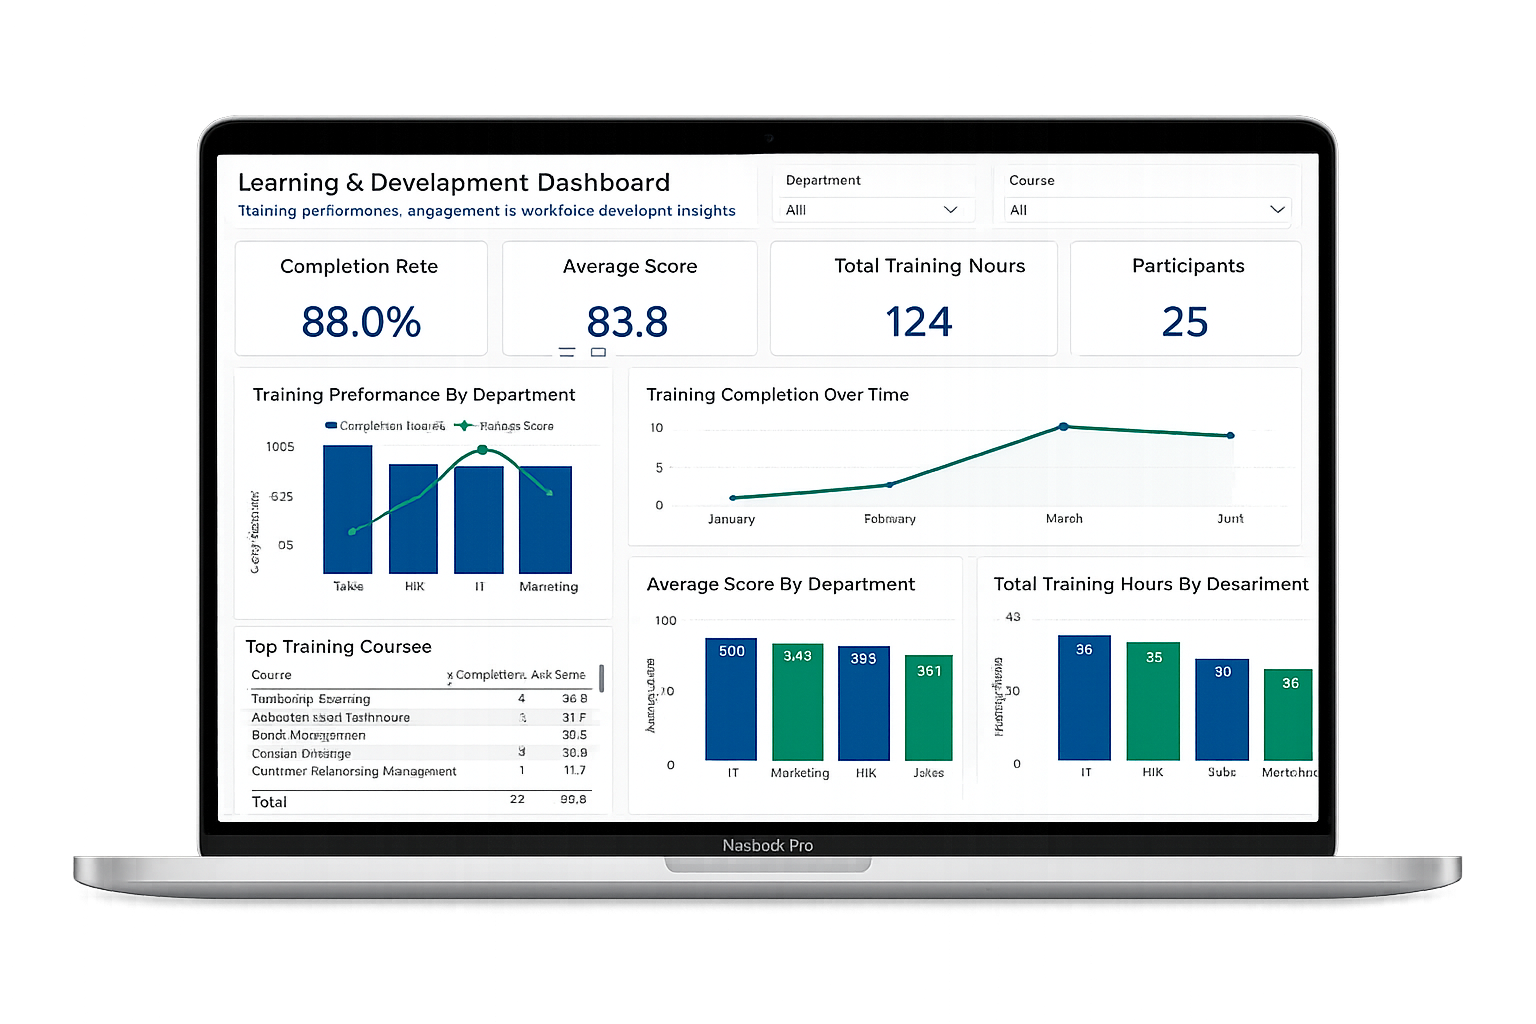

What the dashboard file says about the page in this screenshot:
{"tool":"powerbi","page":{"name":"Page 1","canvas":[1280,720],"ordinal":0},"visuals":[{"type":"cardVisual","title":"Completion Rate","fields":{"Data":["Training_data.Completion Rate"]},"box":[4,74.5,308.1,170.6],"z":0},{"type":"cardVisual","title":"Completion Rate","fields":{"Data":["Training_data.Average Score"]},"box":[326.3,74.5,308.1,170.6],"z":1000},{"type":"cardVisual","title":"Completion Rate","fields":{"Data":["Training_data.Total Training Hours"]},"box":[648.7,74.5,308.1,170.6],"z":2000},{"type":"lineClusteredColumnComboChart","title":"Average Score By Department","fields":{"Category":["Training_data.Department"],"Y":["Training_data.Average Score"]},"box":[473.8,457.2,374.4,246.8],"z":3000},{"type":"lineChart","title":"Training Completion Over Time","fields":{"Category":["Training_data.Completion_Date.Variation.Date Hierarchy.Month"],"Y":["CountNonNull(Training_data.Employee_ID)"]},"box":[473.8,245.2,791.8,200.4],"z":4000},{"type":"slicer","fields":{"Values":["Training_data.Department"]},"box":[610.7,11.6,207.1,61.3],"z":5000},{"type":"slicer","fields":{"Values":["Training_data.Course_Name"]},"box":[833.5,10.9,236.9,62],"z":6000},{"type":"slicer","title":"Last12 Months","fields":{"Values":["Training_data.Completion_Date.Variation.Date Hierarchy.Month"]},"box":[1086.1,9.9,180.6,62.9],"z":7000},{"type":"lineStackedColumnComboChart","title":"Training Performance By Department","fields":{"Category":["Training_data.Department"],"Y":["Training_data.Completion Rate %"],"Y2":["Training_data.Average Score"]},"box":[13.3,243.5,445.6,273.3],"z":8000},{"type":"clusteredColumnChart","title":"Total Training Hours By Department","fields":{"Category":["Training_data.Department"],"Y":["Sum(Training_data.Training_Hours)"]},"box":[861.4,457.2,404.2,246.8],"z":9000},{"type":"tableEx","title":"Top Training Courses","fields":{"Values":["Training_data.Course_Name","Training_data.Completed Trainings","Training_data.Average Score"]},"box":[13.3,528.4,446,175.6],"z":10000},{"type":"cardVisual","title":"Completion Rate","fields":{"Data":["Training_data.Participants"]},"box":[971,74.5,308.1,170.6],"z":11000},{"type":"textbox","box":[13.3,6.6,579.8,67.9],"z":12000}]}

Visuals, with their boxes on the page's 1280x720 design canvas (x1, y1, x2, y2). These are canvas units, not pixel positions in the 1536x1024 screenshot, which may show the page scaled, cropped or inside an application window:
"Completion Rate" cardVisual: region(4, 74, 312, 245)
"Completion Rate" cardVisual: region(326, 74, 634, 245)
"Completion Rate" cardVisual: region(649, 74, 957, 245)
"Average Score By Department" lineClusteredColumnComboChart: region(474, 457, 848, 704)
"Training Completion Over Time" lineChart: region(474, 245, 1266, 446)
slicer - Training_data.Department: region(611, 12, 818, 73)
slicer - Training_data.Course_Name: region(834, 11, 1070, 73)
"Last12 Months" slicer: region(1086, 10, 1267, 73)
"Training Performance By Department" lineStackedColumnComboChart: region(13, 244, 459, 517)
"Total Training Hours By Department" clusteredColumnChart: region(861, 457, 1266, 704)
"Top Training Courses" tableEx: region(13, 528, 459, 704)
"Completion Rate" cardVisual: region(971, 74, 1279, 245)
textbox: region(13, 7, 593, 74)
